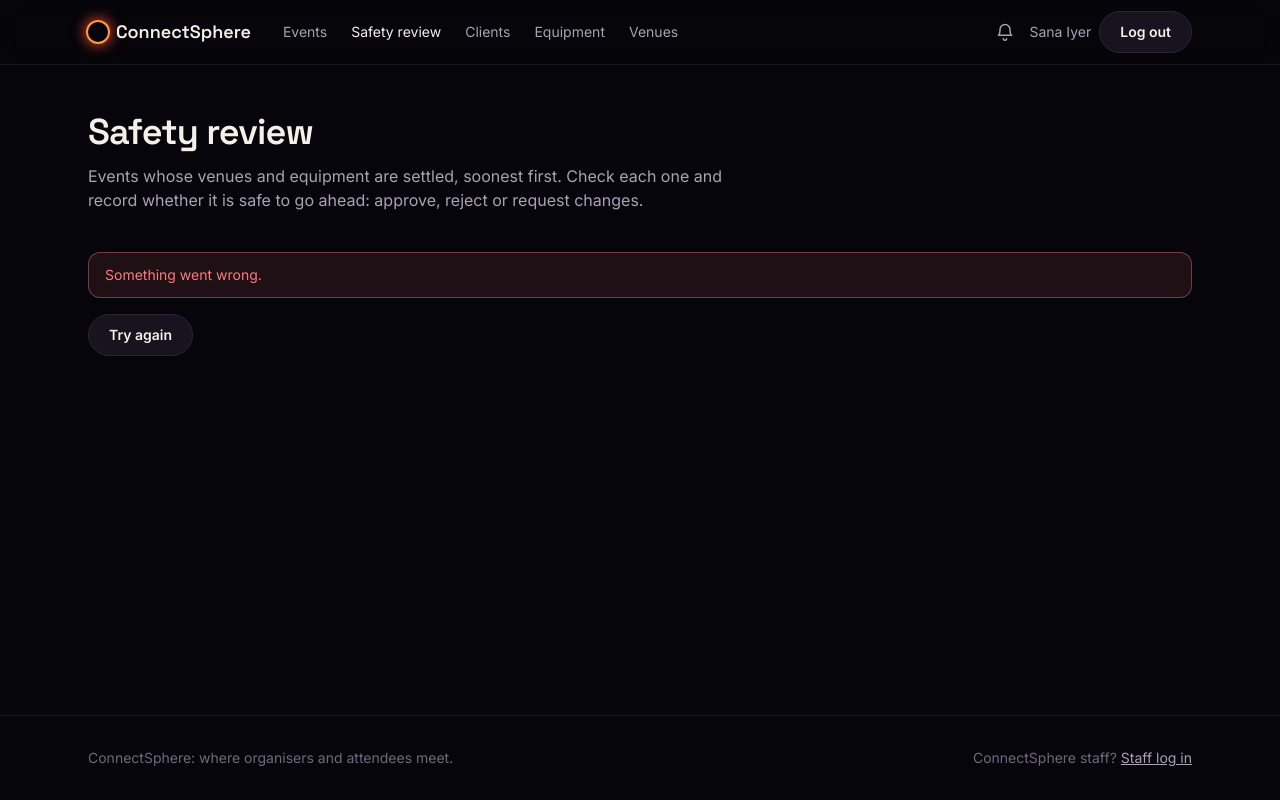
SCRUM-97 and SCRUM-24 AC6 the Safety Officer list › shows the backend's message when the list cannot be read, and reads it again on Try again
The image size is (1280, 800).
Expected: the message reads "Something went wrong.", [105,266,262,283]
Click the button "Try again". click: click(141, 335)
box: [88,314,193,356]
(page scrolled)
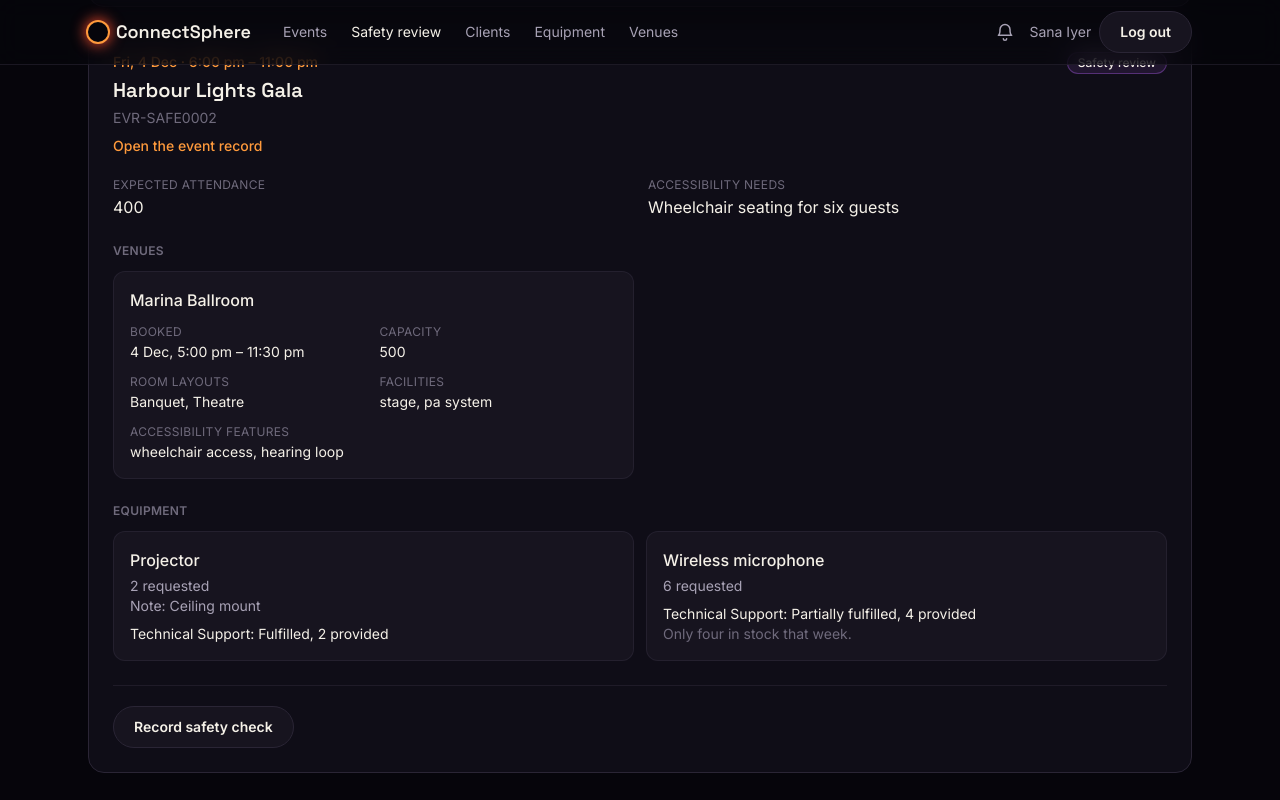
Expected: the element "Harbour Lights Gala" is shown
Expected: the message "Something went wrong." is gone
